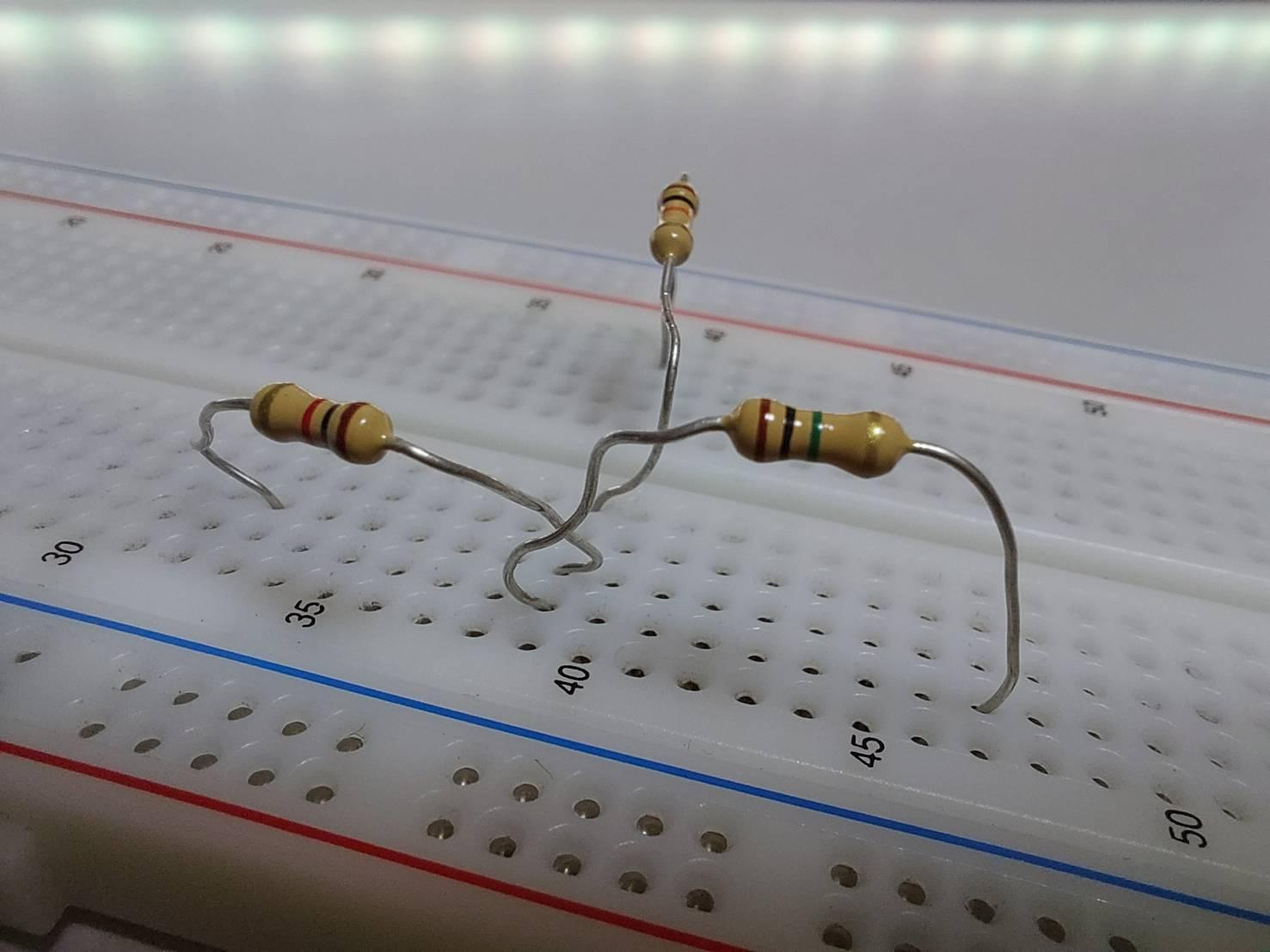resistor: (721, 381, 917, 478), (250, 376, 407, 475), (650, 171, 698, 274)
